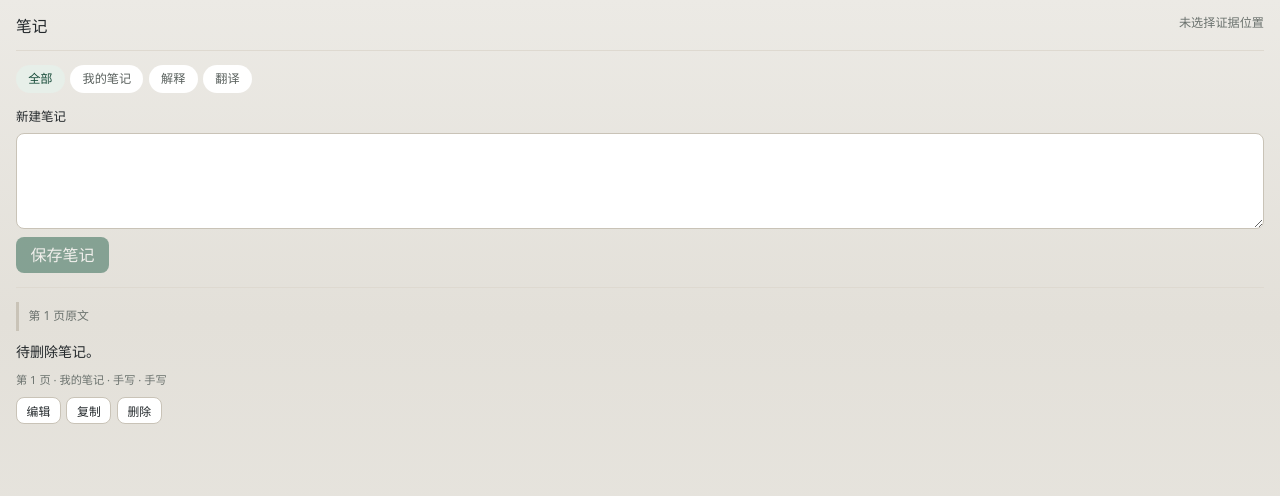
Test case: keeps the note and reports the failure when deletion fails
Click the button "删除". click: (139, 411)
box: [117,397,162,424]
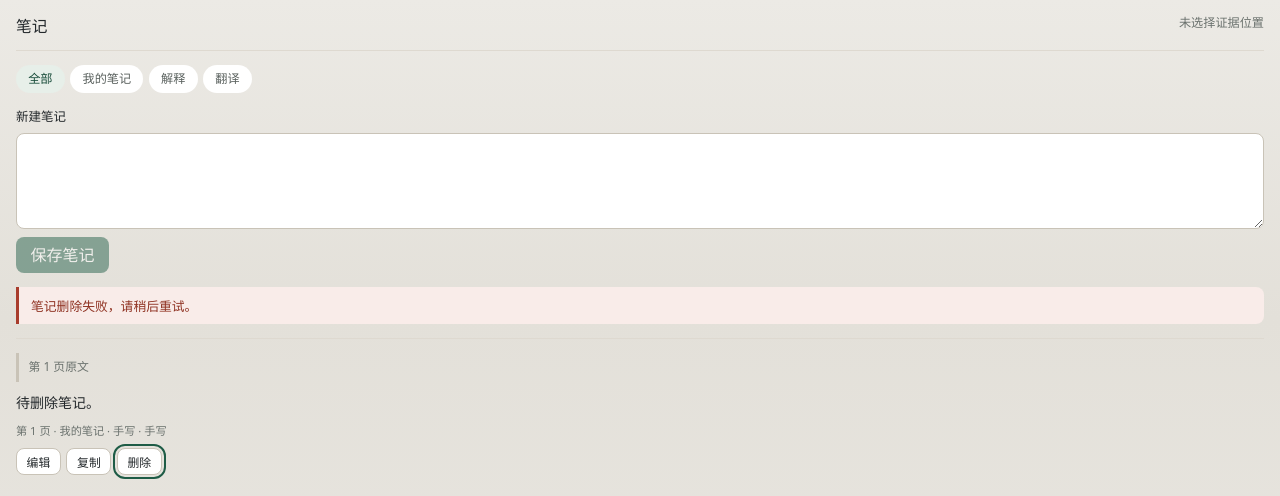
Expected: the text "待删除笔记。" is shown, [16,390,100,416]
Expected: the message reads "笔记删除失败，请稍后重试。", [31,297,197,315]
